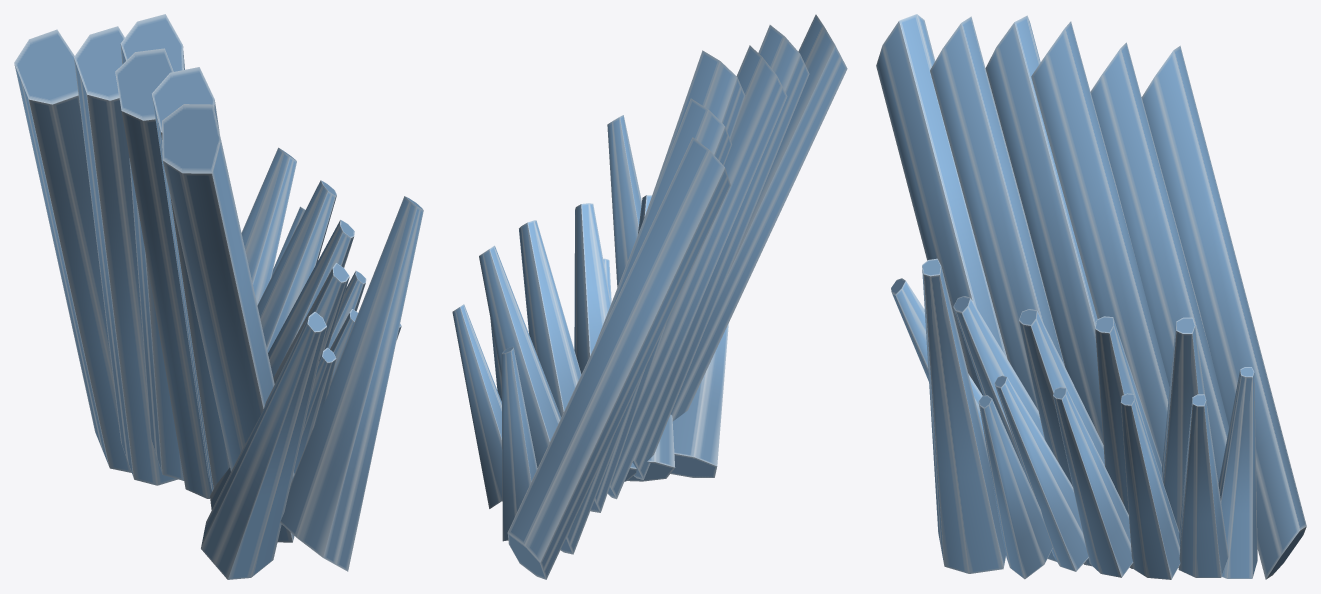
Rendered from wall_spike_05.fbx.
The picture shows the model from 3 angles, left to right: view 1: azimuth 30°, elevation 25°; view 2: azimuth 150°, elevation 25°; view 3: azimuth 270°, elevation 25°; orthographic projection. The views are drawn at different scales.
Visible parts, largest first — view 1: wall_spike_05; view 2: wall_spike_05; view 3: wall_spike_05.
Boxes of the visible parts, x1,y1,x2,y2 form: wall_spike_05: [14, 14, 423, 579]; wall_spike_05: [452, 14, 847, 579]; wall_spike_05: [876, 14, 1306, 579].
Bounding box in the file's own units: 1.27 × 2.2 × 1.68.
Materials: 1 (1 with a texture image).
